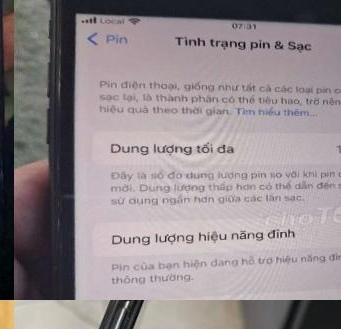scratch: (44, 33, 74, 276), (86, 306, 136, 329)
